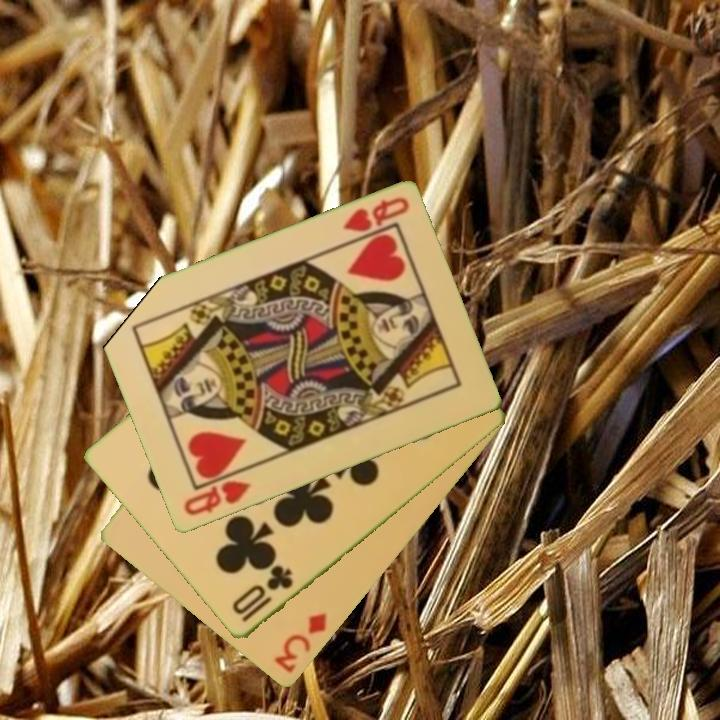10c: (228, 562, 297, 626)
3d: (271, 609, 330, 677)
Qh: (180, 477, 254, 519), (339, 194, 412, 236)
